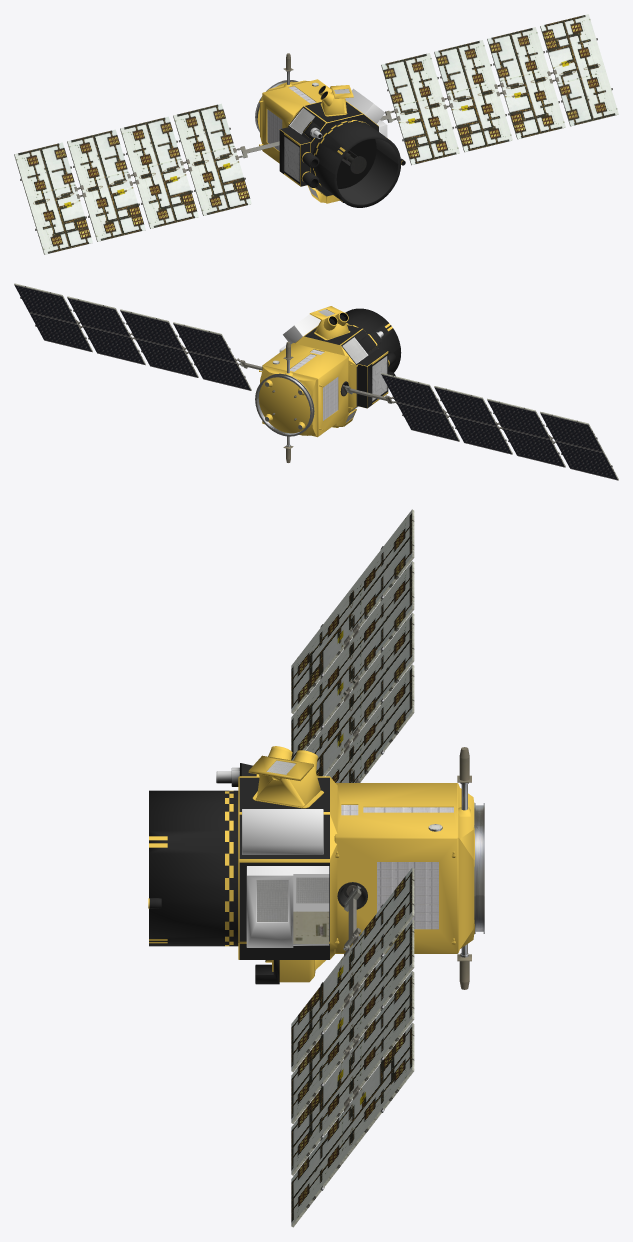
Rendered from calipso.glb.
3 renders of one model, top to bottom at view 1: azimuth 30°, elevation 25°; view 2: azimuth 150°, elevation 25°; view 3: azimuth 270°, elevation 25°, orthographic. The views are drawn at different scales.
Visible parts, largest first — view 1: tex_01, krinkle, BUS, shiny_panel, foil_silver; view 2: shiny_panel, BUS, tex_01, krinkle, foil_silver; view 3: tex_01, BUS, krinkle, foil_silver, shiny_panel.
Boxes of the visible parts, x1=… form: tex_01: x1=14, y1=14, x2=618, y2=254; krinkle: x1=279, y1=102, x2=405, y2=207; BUS: x1=257, y1=79, x2=402, y2=203; shiny_panel: x1=267, y1=86, x2=349, y2=198; foil_silver: x1=289, y1=88, x2=387, y2=192; shiny_panel: x1=14, y1=284, x2=618, y2=480; BUS: x1=258, y1=306, x2=392, y2=437; tex_01: x1=14, y1=283, x2=618, y2=480; krinkle: x1=304, y1=308, x2=401, y2=412; foil_silver: x1=279, y1=310, x2=368, y2=412; tex_01: x1=216, y1=509, x2=484, y2=1227; BUS: x1=148, y1=746, x2=474, y2=982; krinkle: x1=149, y1=763, x2=329, y2=984; foil_silver: x1=242, y1=809, x2=329, y2=947; shiny_panel: x1=257, y1=760, x2=453, y2=929.
Bounding box in the file's own units: 9.77 × 1.94 × 2.46.
6 materials, 2 textured.
